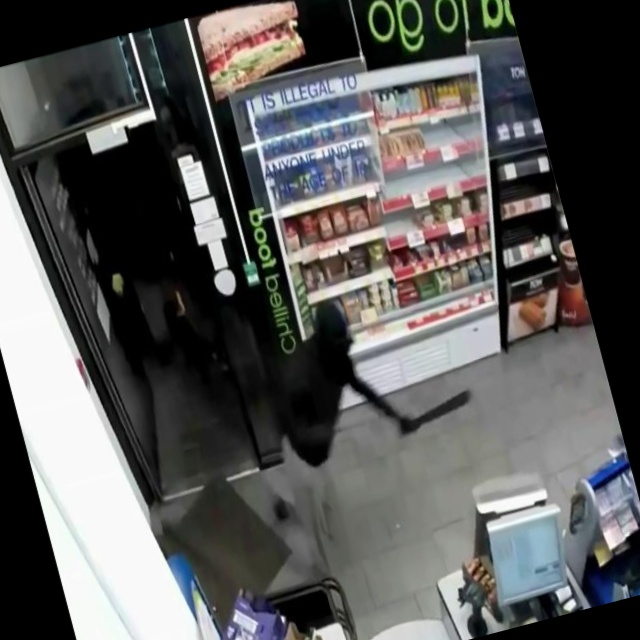gun: (384, 366, 496, 449)
